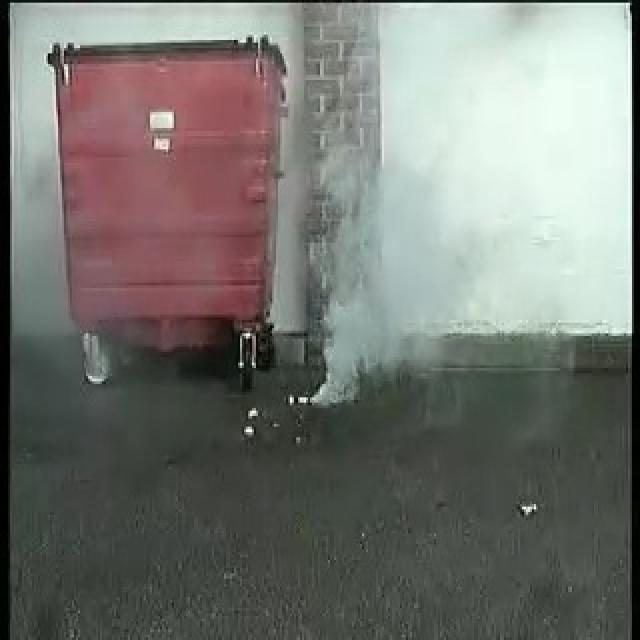Smoke: (316, 176, 456, 408)
